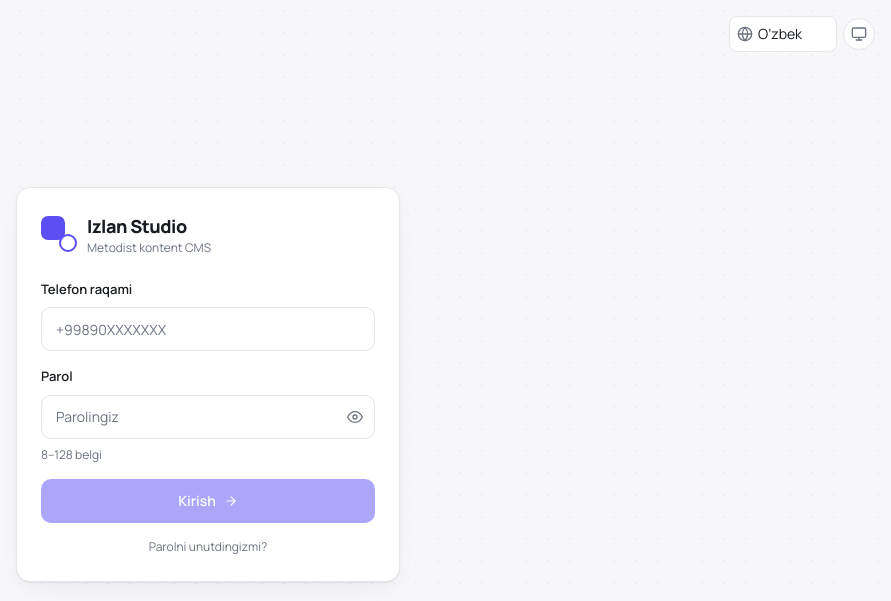
Staff login — phone + password (TD-252) › WEB-AUTH-PWD-05 wrong credentials show a generic localized error
Type "+998901234567" into the field labelled "Telefon raqami" at (208, 329), box [41,307,375,351]
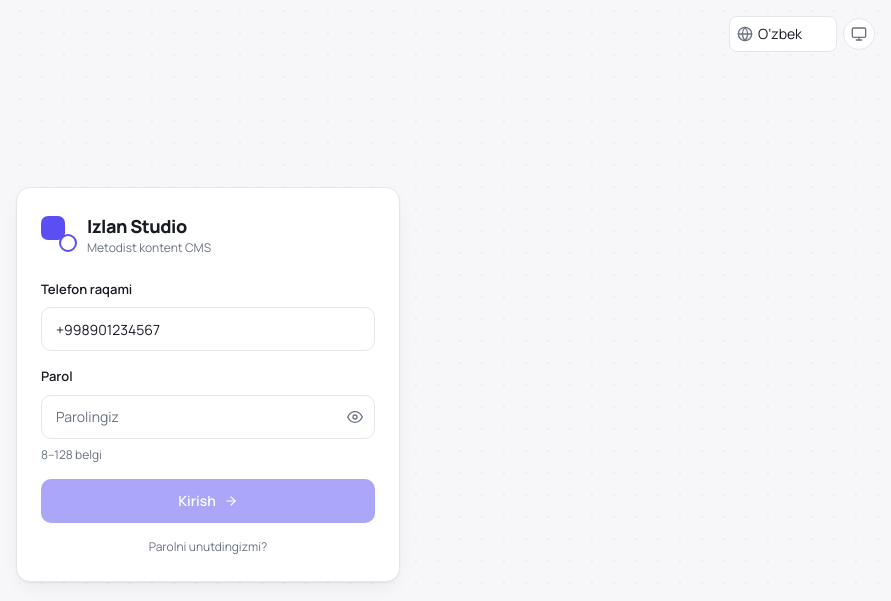
Type "nope-nope-1" into the password field labelled "Parol" at (208, 416), box [41,394,375,438]
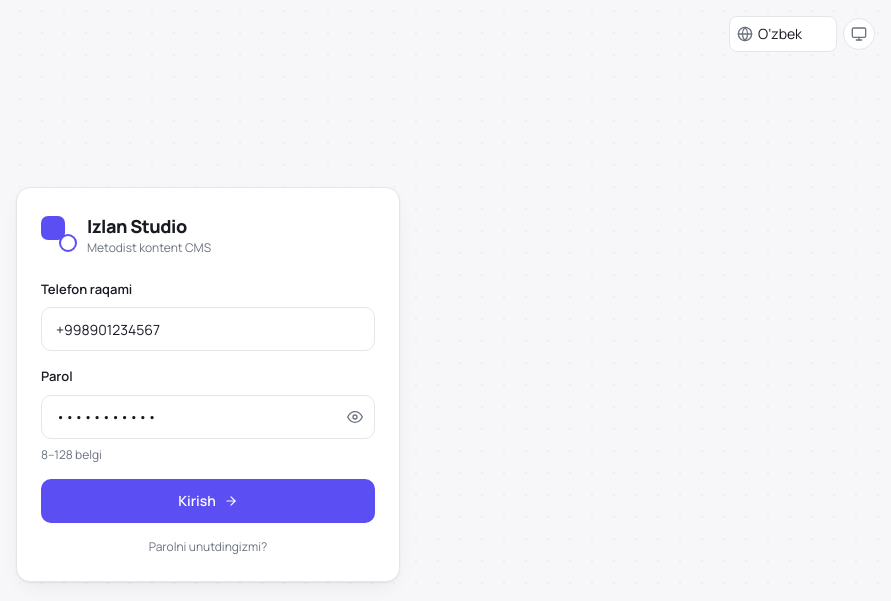
Click the button "Kirish" at (208, 500), box [41,478,375,522]
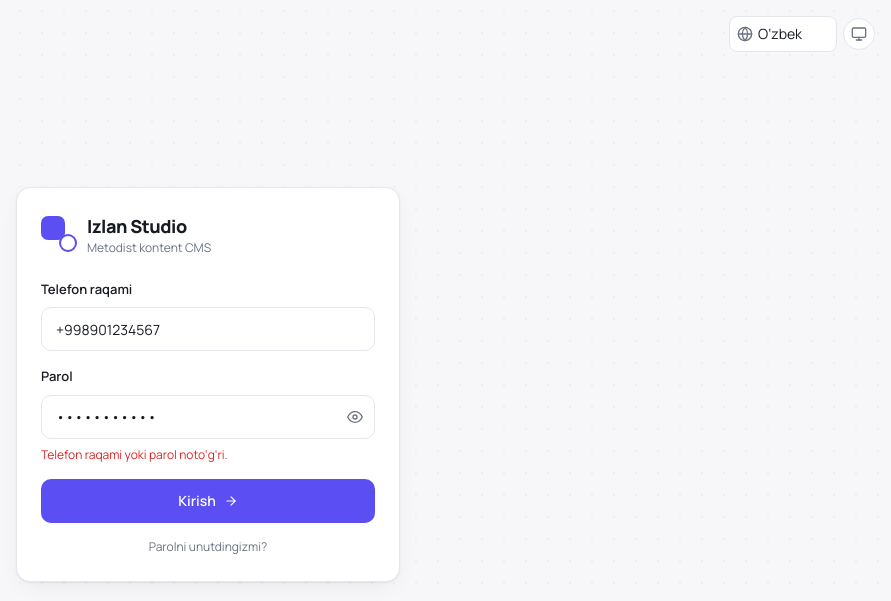
Now the text "Telefon raqami yoki parol noto‘g‘ri." is shown, box [41,446,228,462]
